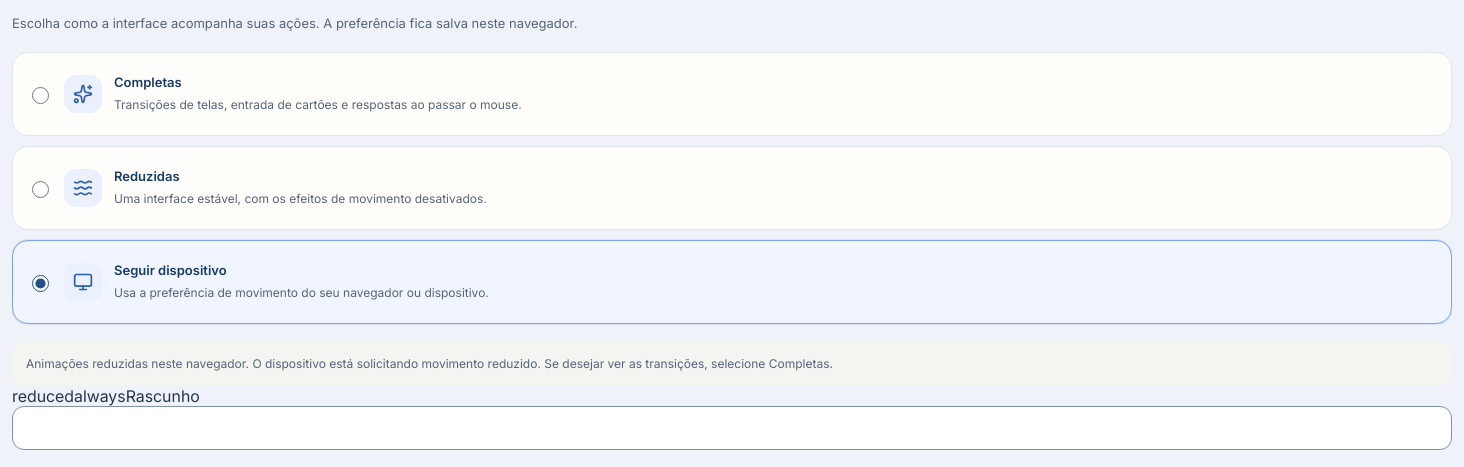
Test: preferências de animação da interface › continua funcionando quando o navegador bloqueia a leitura e gravação da preferência
Click the radio button labelled "Completas": (40, 96) [32,87,49,104]
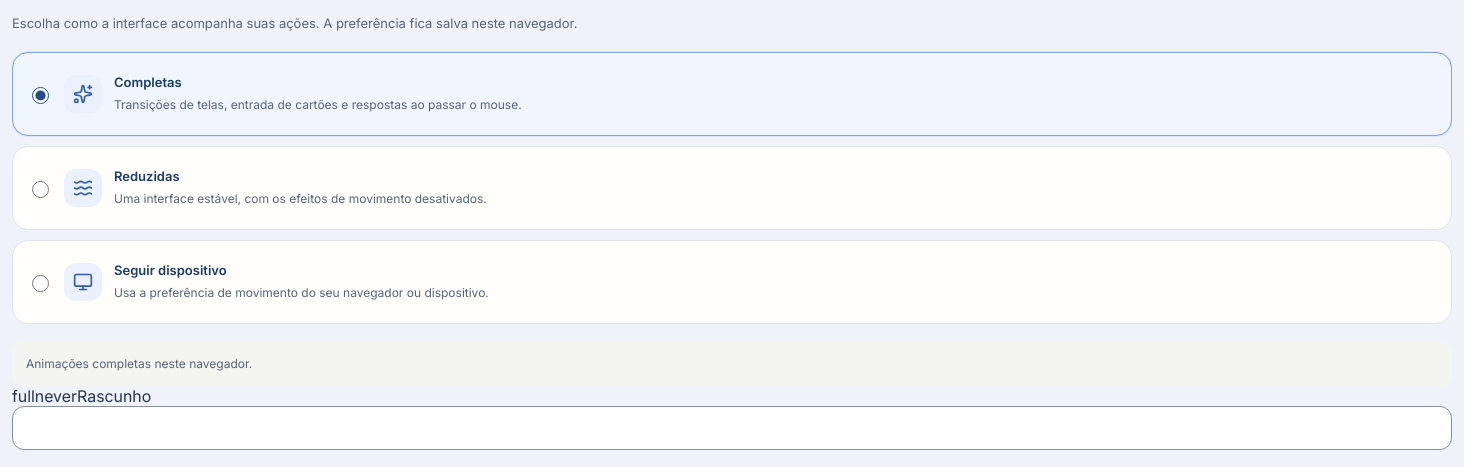
Result: the text with test id "resolved" reads "full" at [12,386,35,406]
Result: the message reads "Animações completas neste navegador." at [26,356,252,371]
